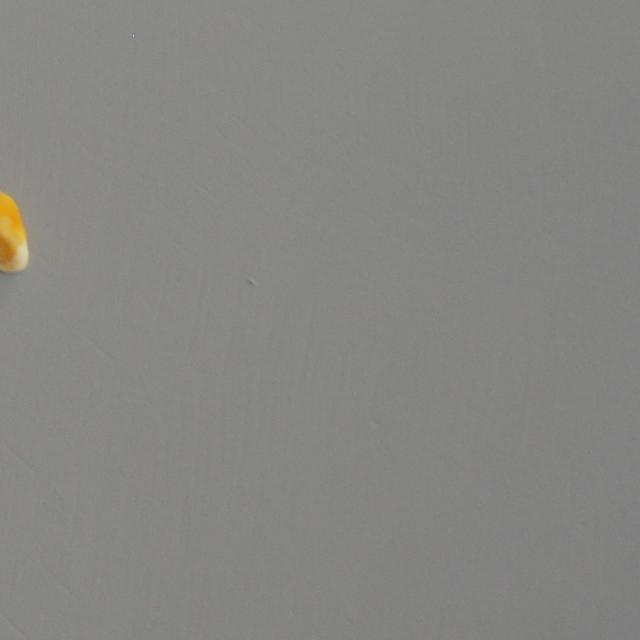dañado: (0, 186, 30, 306)
